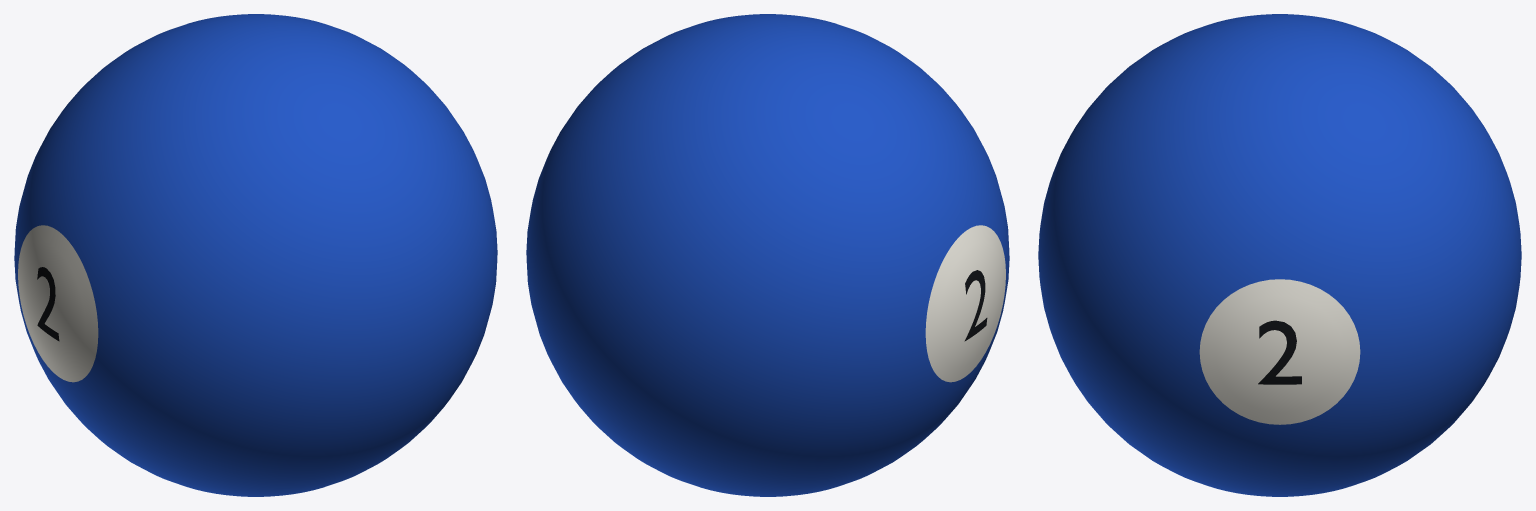
Rendered from ball_02.glb.
The picture shows the model from 3 angles, left to right: view 1: azimuth 30°, elevation 25°; view 2: azimuth 150°, elevation 25°; view 3: azimuth 270°, elevation 25°; orthographic projection.
Parts seen in each view (by area): view 1: Ball 02 | resin, Ball 02 | number medallion | opposite, Ball 02 | numeral 2 | opposite; view 2: Ball 02 | resin, Ball 02 | number medallion | opposite, Ball 02 | numeral 2 | opposite; view 3: Ball 02 | resin, Ball 02 | number medallion, Ball 02 | numeral 2.
Boxes of the visible parts, bbox=[...] form: Ball 02 | resin: bbox=[14, 14, 497, 496]; Ball 02 | number medallion | opposite: bbox=[18, 225, 98, 382]; Ball 02 | numeral 2 | opposite: bbox=[37, 267, 59, 341]; Ball 02 | resin: bbox=[526, 14, 1009, 496]; Ball 02 | number medallion | opposite: bbox=[925, 225, 1005, 382]; Ball 02 | numeral 2 | opposite: bbox=[964, 270, 987, 341]; Ball 02 | resin: bbox=[1038, 14, 1521, 496]; Ball 02 | number medallion: bbox=[1199, 279, 1360, 424]; Ball 02 | numeral 2: bbox=[1258, 320, 1301, 384].
Size of the model in its own units: 0.0573 by 0.0571 by 0.0571.
